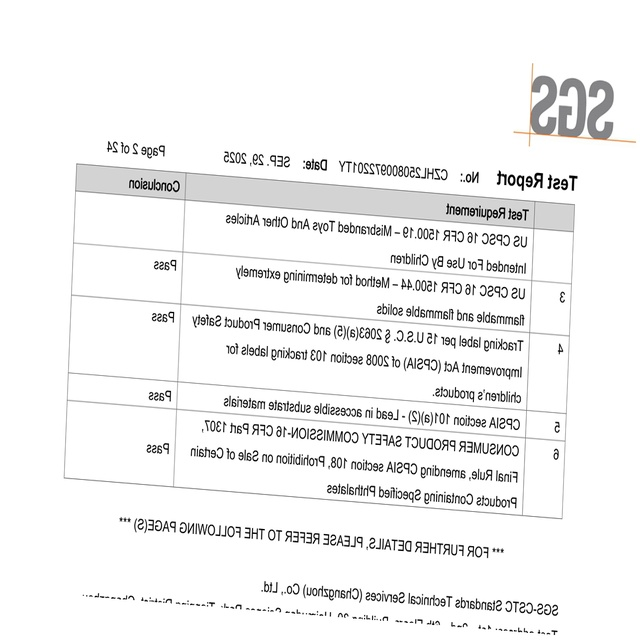sgs: (528, 74, 614, 140)
